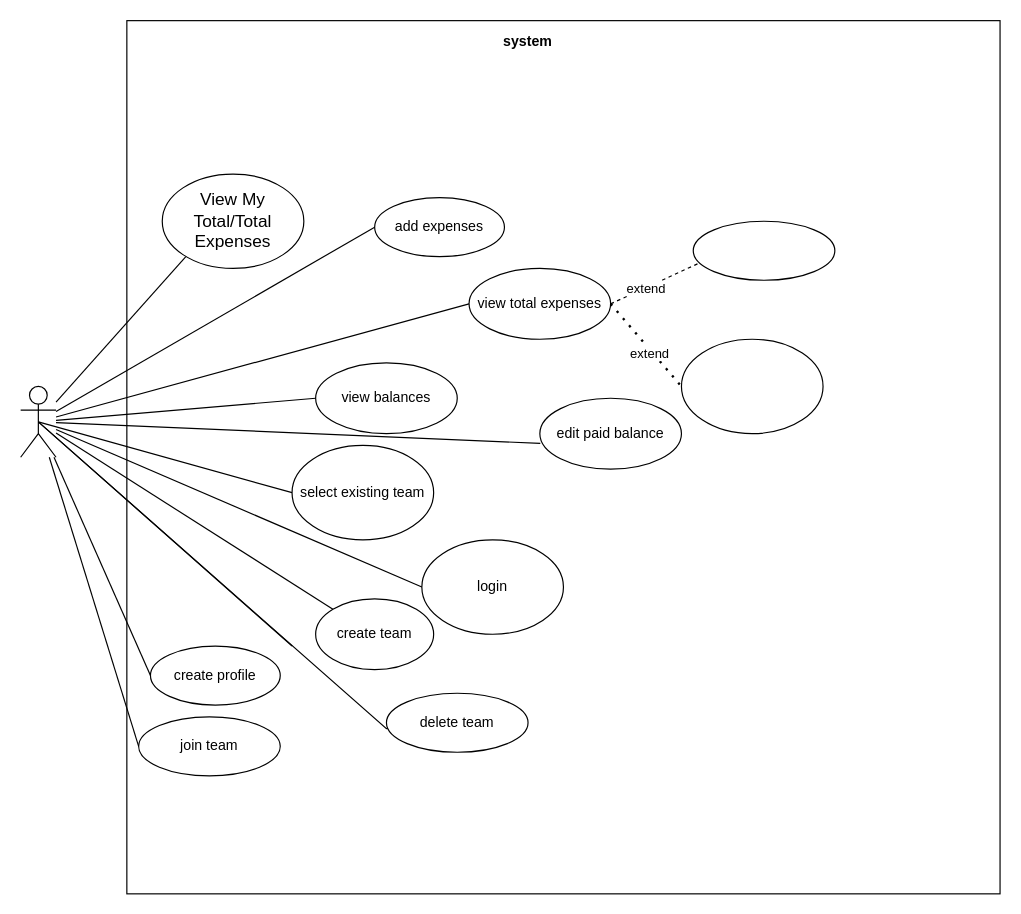
This 1021x914 diagram has some shape labels left out. Each missing label, with the centre of its shape:
"delete expenses" belongs at [751,386].
"edit expenses" belongs at [763,250].
"User" belongs at [37,421].
